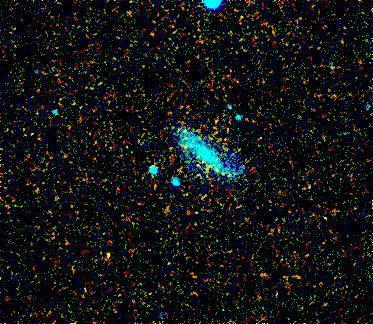star: (97, 239, 127, 269)
